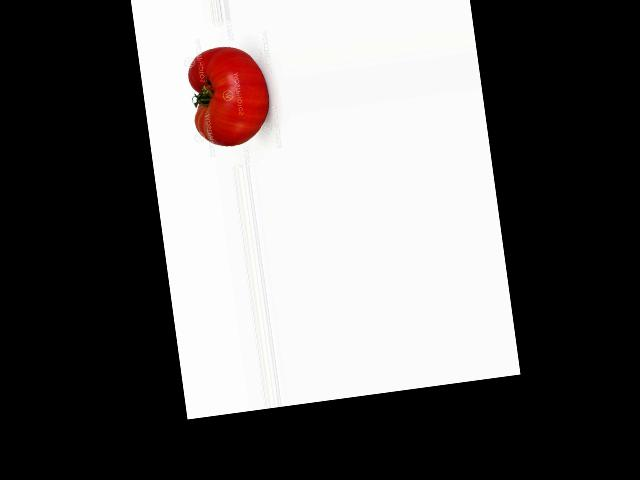tomato: (185, 42, 274, 150)
